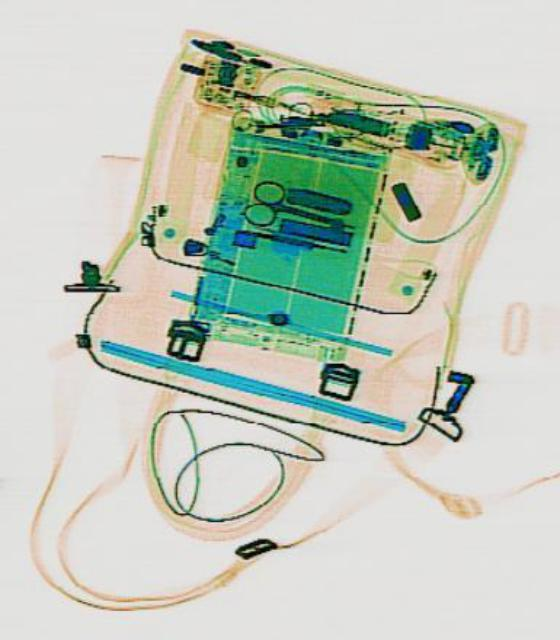Scissors: (240, 173, 358, 250)
